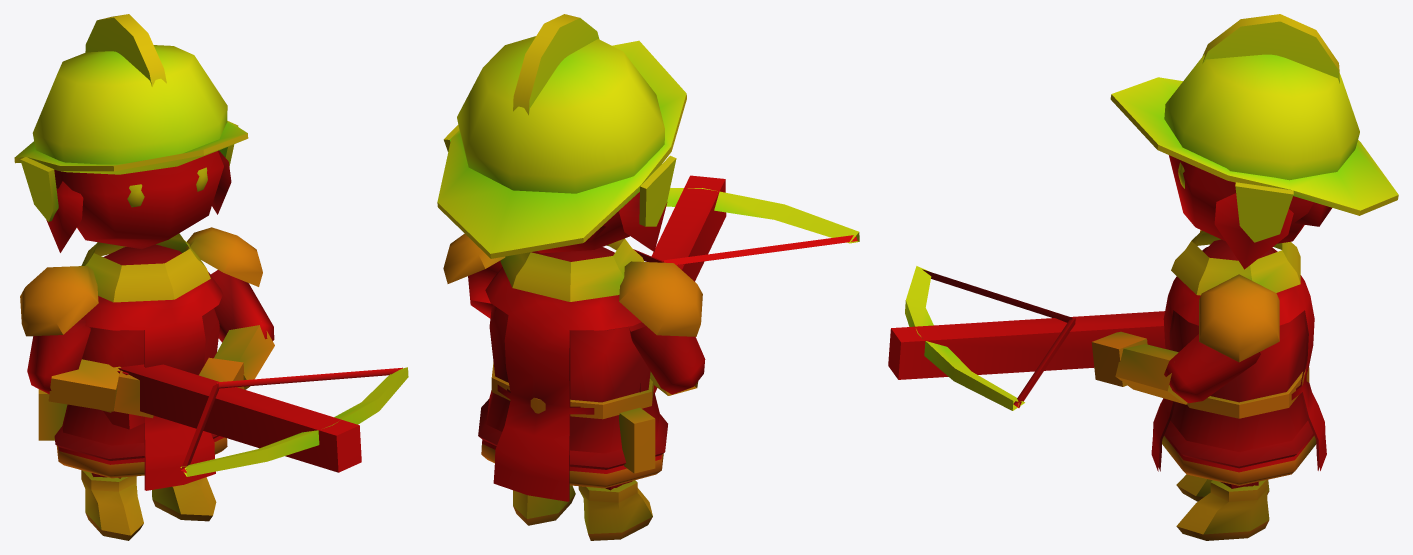
The model's file is Crossbowman_LOD1.glb.
3 views of the same model, side by side, from view 1: azimuth 30°, elevation 25°; view 2: azimuth 150°, elevation 25°; view 3: azimuth 270°, elevation 25° (orthographic). The views are drawn at different scales.
Visible parts, largest first — view 1: Crossbowman_LOD1; view 2: Crossbowman_LOD1; view 3: Crossbowman_LOD1.
Part boxes in pixels (left/top/right/bottom): Crossbowman_LOD1: left=14, top=14, right=408, bottom=540; Crossbowman_LOD1: left=437, top=14, right=859, bottom=540; Crossbowman_LOD1: left=888, top=14, right=1398, bottom=540.
Size of the model in its own units: 0.5596 by 0.9282 by 0.8663.
